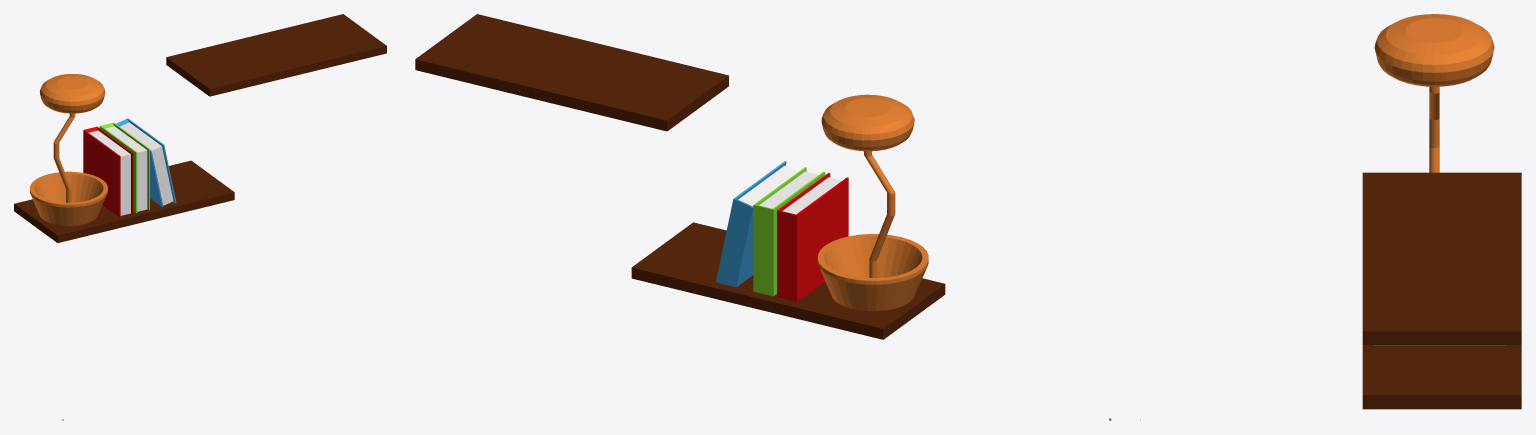
File: pajangan 3d cartoon.fbx
3 views of the same model, side by side, from view 1: azimuth 30°, elevation 25°; view 2: azimuth 150°, elevation 25°; view 3: azimuth 270°, elevation 25° (orthographic). The views are drawn at different scales.
Visible parts, largest first — view 1: Cube.020, Cylinder.034, Cube.019, Cube.021, Cube.023, Cube.022; view 2: Cube.020, Cylinder.034, Cube.019, Cube.021, Cube.023, Cube.022; view 3: Cube.020, Cube.019, Cylinder.034.
Boxes of the visible parts, x1,y1,x2,y2 form: Cube.020: [166, 14, 386, 96]; Cylinder.034: [30, 74, 107, 225]; Cube.019: [14, 160, 234, 242]; Cube.021: [83, 126, 133, 217]; Cube.023: [116, 118, 176, 206]; Cube.022: [99, 122, 149, 213]; Cube.020: [415, 14, 728, 131]; Cylinder.034: [817, 94, 928, 311]; Cube.019: [631, 222, 945, 339]; Cube.021: [777, 173, 848, 301]; Cube.023: [716, 161, 797, 287]; Cube.022: [753, 167, 825, 296]; Cube.020: [1362, 172, 1521, 344]; Cube.019: [1362, 345, 1521, 409]; Cylinder.034: [1374, 14, 1494, 172].
Bounding box in the file's own units: 551 × 352 × 258.
